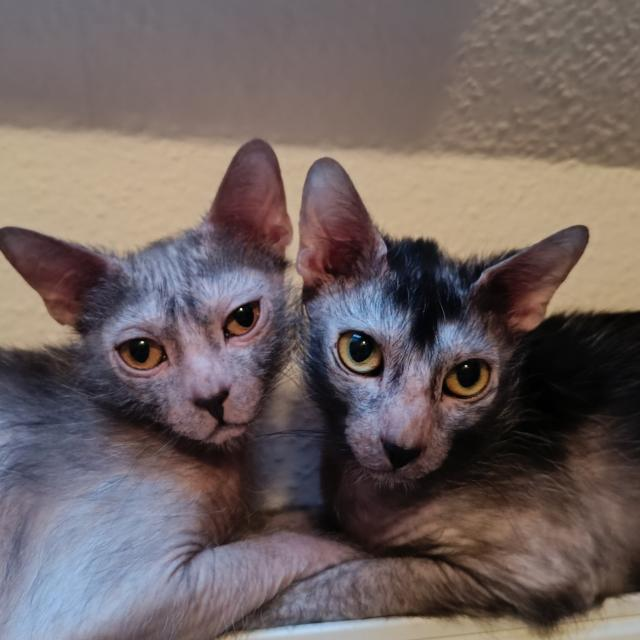Lykoi: (294, 153, 640, 628), (0, 133, 293, 640)
